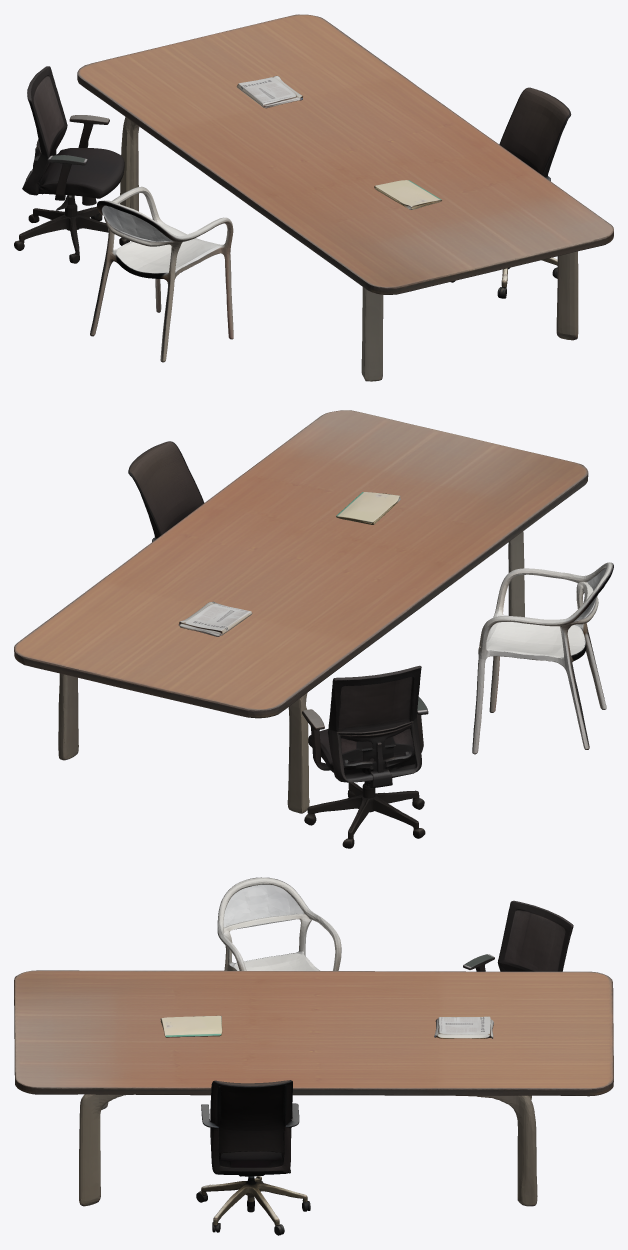
File: real-3.glb
The picture shows the model from 3 angles, top to bottom: view 1: azimuth 30°, elevation 25°; view 2: azimuth 150°, elevation 25°; view 3: azimuth 270°, elevation 25°; orthographic projection. The views are drawn at different scales.
Parts seen in each view (by area): view 1: mesh_1; view 2: mesh_1; view 3: mesh_1.
Part boxes in pixels (x1,y1,x2,y2): mesh_1: (14, 14, 613, 381); mesh_1: (14, 410, 613, 848); mesh_1: (14, 877, 613, 1235).
Size of the model in its own units: 4.52 by 1.56 by 5.46.
6 materials, 6 textured.
